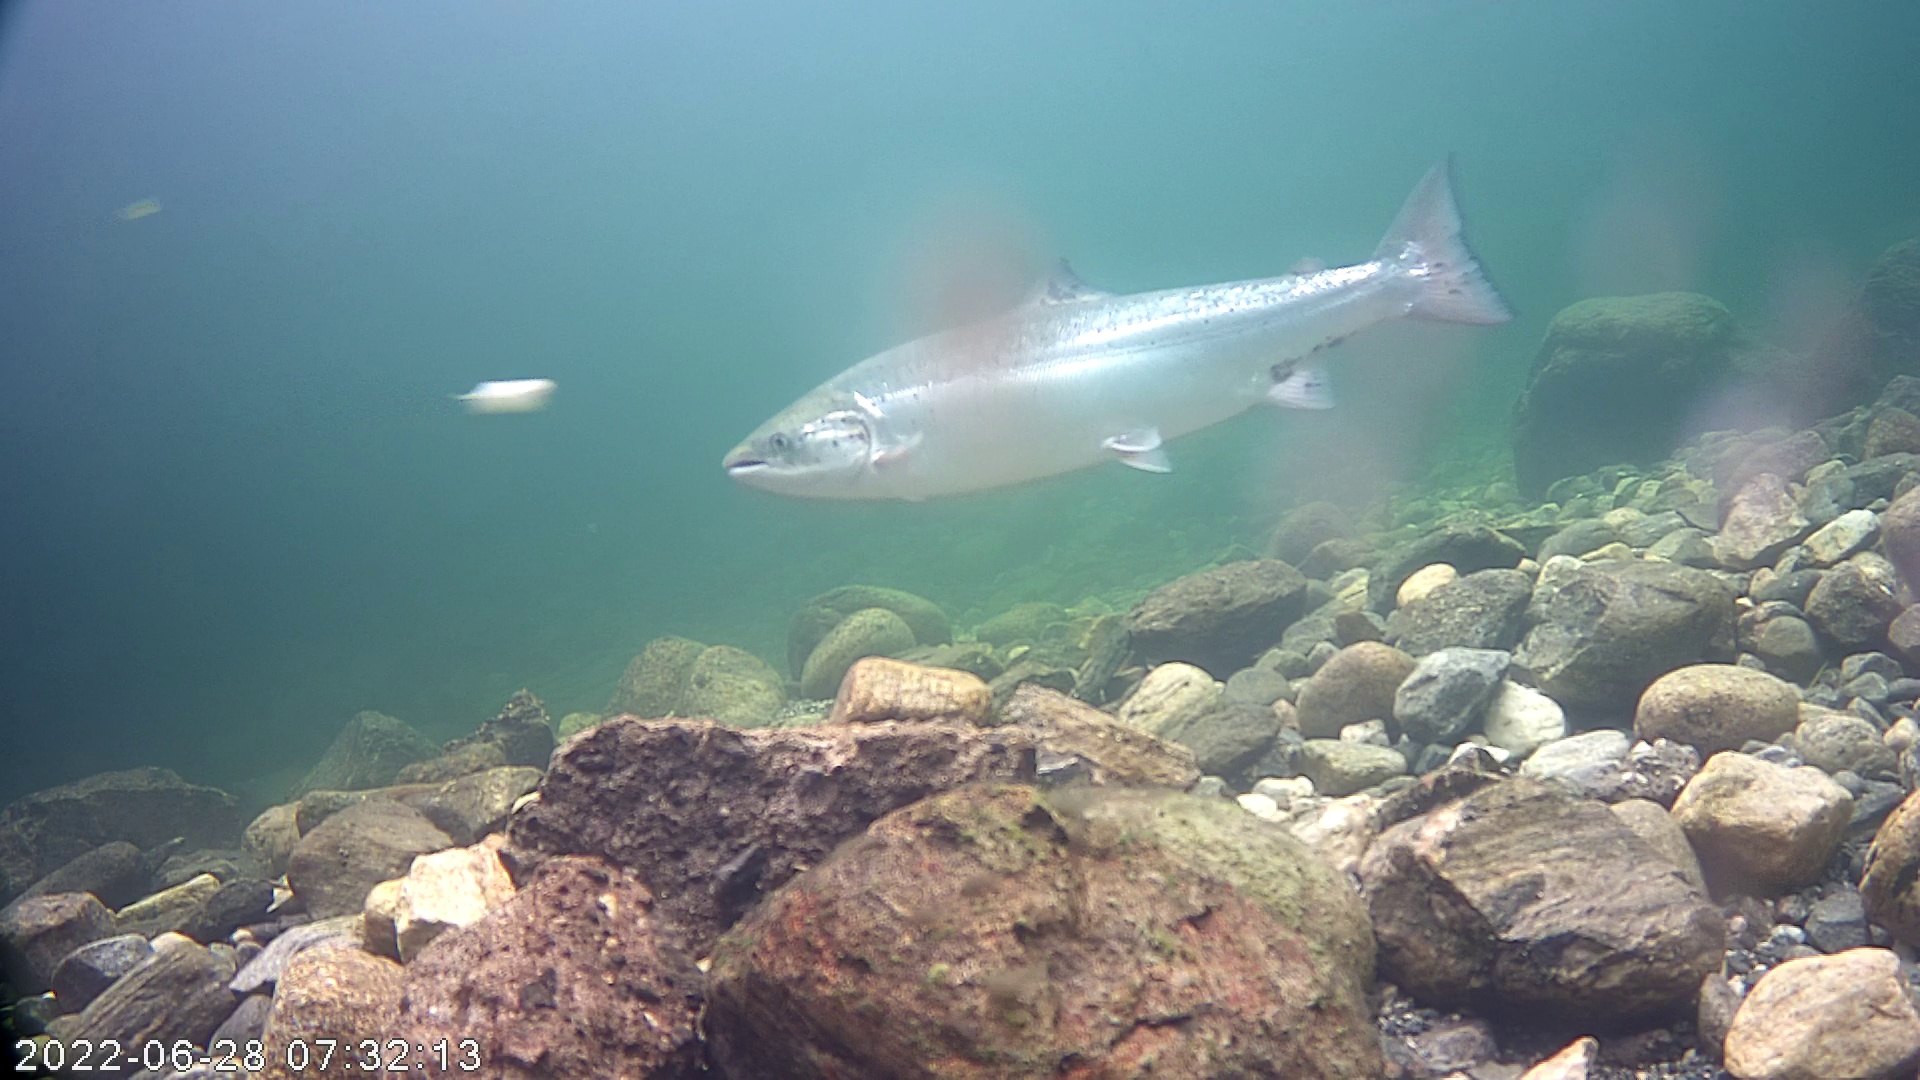salmon: (702, 117, 1549, 560)
